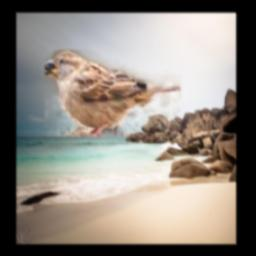Sparrow: (44, 50, 180, 137)
